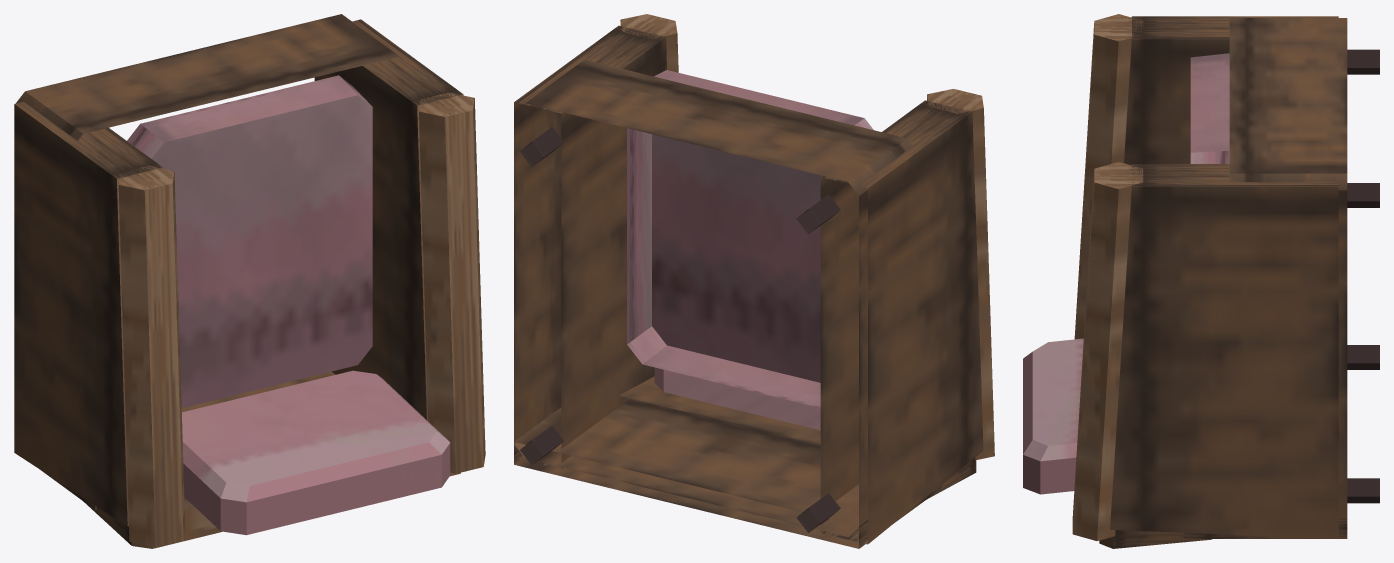
The model's file is pz_chair_seating_indoor_01_purple_rattan_fidelity_r1.obj.
3 views of the same model, side by side, from view 1: azimuth 30°, elevation 25°; view 2: azimuth 150°, elevation 25°; view 3: azimuth 270°, elevation 25° (orthographic). The views are drawn at different scales.
Parts seen in each view (by area): view 1: pz_chair_seating_indoor_01_purple_rattan__seat_0__seat, pz_chair_seating_indoor_01_purple_rattan__arm_panel_-1__frame, pz_chair_seating_indoor_01_purple_rattan__back_cushion_0__back, pz_chair_seating_indoor_01_purple_rattan__rounded_rail_-1__frame, pz_chair_seating_indoor_01_purple_rattan__rounded_rail_1__frame, pz_chair_seating_indoor_01_purple_rattan__arm_panel_1__frame, pz_chair_seating_indoor_01_purple_rattan__lower_body__frame, pz_chair_seating_indoor_01_purple_rattan__rear_shell__frame, pz_chair_seating_indoor_01_purple_rattan__rear_body_bridge__fram; view 2: pz_chair_seating_indoor_01_purple_rattan__arm_panel_-1__frame, pz_chair_seating_indoor_01_purple_rattan__seat_0__seat, pz_chair_seating_indoor_01_purple_rattan__lower_body__frame, pz_chair_seating_indoor_01_purple_rattan__arm_panel_1__frame, pz_chair_seating_indoor_01_purple_rattan__rear_body_bridge__fram, pz_chair_seating_indoor_01_purple_rattan__rounded_rail_-1__frame, pz_chair_seating_indoor_01_purple_rattan__back_cushion_0__back, pz_chair_seating_indoor_01_purple_rattan__rear_shell__frame, pz_chair_seating_indoor_01_purple_rattan__rounded_rail_1__frame, pz_chair_seating_indoor_01_purple_rattan__foot_-1_1__frame, pz_chair_seating_indoor_01_purple_rattan__foot_1_-1__frame, pz_chair_seating_indoor_01_purple_rattan__foot_-1_-1__frame (+1 smaller); view 3: pz_chair_seating_indoor_01_purple_rattan__arm_panel_1__frame, pz_chair_seating_indoor_01_purple_rattan__lower_body__frame, pz_chair_seating_indoor_01_purple_rattan__rounded_rail_1__frame, pz_chair_seating_indoor_01_purple_rattan__arm_panel_-1__frame, pz_chair_seating_indoor_01_purple_rattan__back_cushion_0__back, pz_chair_seating_indoor_01_purple_rattan__rounded_rail_-1__frame, pz_chair_seating_indoor_01_purple_rattan__seat_0__seat, pz_chair_seating_indoor_01_purple_rattan__rear_shell__frame, pz_chair_seating_indoor_01_purple_rattan__foot_-1_1__frame, pz_chair_seating_indoor_01_purple_rattan__foot_1_-1__frame, pz_chair_seating_indoor_01_purple_rattan__foot_-1_-1__frame, pz_chair_seating_indoor_01_purple_rattan__foot_1_1__frame (+1 smaller).
Part boxes in pixels (box(x1,y1,x2,y2)): pz_chair_seating_indoor_01_purple_rattan__seat_0__seat: box(127, 75, 372, 407); pz_chair_seating_indoor_01_purple_rattan__arm_panel_-1__frame: box(14, 101, 163, 526); pz_chair_seating_indoor_01_purple_rattan__back_cushion_0__back: box(182, 370, 450, 535); pz_chair_seating_indoor_01_purple_rattan__rounded_rail_-1__frame: box(118, 165, 185, 546); pz_chair_seating_indoor_01_purple_rattan__rounded_rail_1__frame: box(419, 92, 485, 473); pz_chair_seating_indoor_01_purple_rattan__arm_panel_1__frame: box(314, 19, 463, 420); pz_chair_seating_indoor_01_purple_rattan__lower_body__frame: box(16, 14, 403, 140); pz_chair_seating_indoor_01_purple_rattan__rear_shell__frame: box(83, 472, 460, 548); pz_chair_seating_indoor_01_purple_rattan__rear_body_bridge__fram: box(41, 371, 335, 509); pz_chair_seating_indoor_01_purple_rattan__arm_panel_-1__frame: box(820, 100, 983, 544); pz_chair_seating_indoor_01_purple_rattan__seat_0__seat: box(627, 70, 873, 407); pz_chair_seating_indoor_01_purple_rattan__lower_body__frame: box(514, 59, 912, 536); pz_chair_seating_indoor_01_purple_rattan__arm_panel_1__frame: box(514, 25, 666, 469); pz_chair_seating_indoor_01_purple_rattan__rear_body_bridge__fram: box(514, 398, 941, 548); pz_chair_seating_indoor_01_purple_rattan__rounded_rail_-1__frame: box(927, 89, 994, 460); pz_chair_seating_indoor_01_purple_rattan__back_cushion_0__back: box(654, 367, 820, 430); pz_chair_seating_indoor_01_purple_rattan__rear_shell__frame: box(619, 376, 976, 498); pz_chair_seating_indoor_01_purple_rattan__rounded_rail_1__frame: box(620, 14, 678, 72); pz_chair_seating_indoor_01_purple_rattan__foot_-1_1__frame: box(796, 194, 840, 234); pz_chair_seating_indoor_01_purple_rattan__foot_1_-1__frame: box(520, 425, 563, 465); pz_chair_seating_indoor_01_purple_rattan__foot_-1_-1__frame: box(796, 493, 840, 532); pz_chair_seating_indoor_01_purple_rattan__arm_panel_1__frame: box(1110, 164, 1338, 538); pz_chair_seating_indoor_01_purple_rattan__lower_body__frame: box(1229, 18, 1347, 518); pz_chair_seating_indoor_01_purple_rattan__rounded_rail_1__frame: box(1072, 162, 1143, 540); pz_chair_seating_indoor_01_purple_rattan__arm_panel_-1__frame: box(1124, 16, 1338, 165); pz_chair_seating_indoor_01_purple_rattan__back_cushion_0__back: box(1023, 338, 1083, 494); pz_chair_seating_indoor_01_purple_rattan__rounded_rail_-1__frame: box(1074, 14, 1143, 339); pz_chair_seating_indoor_01_purple_rattan__seat_0__seat: box(1190, 53, 1229, 163); pz_chair_seating_indoor_01_purple_rattan__rear_shell__frame: box(1099, 530, 1212, 548); pz_chair_seating_indoor_01_purple_rattan__foot_-1_1__frame: box(1347, 49, 1379, 74); pz_chair_seating_indoor_01_purple_rattan__foot_1_-1__frame: box(1347, 478, 1379, 503); pz_chair_seating_indoor_01_purple_rattan__foot_-1_-1__frame: box(1347, 345, 1379, 369); pz_chair_seating_indoor_01_purple_rattan__foot_1_1__frame: box(1347, 183, 1379, 207).
Size of the model in its own units: 0.8984 by 0.8887 by 0.7728.
Materials: 1 (1 with a texture image).
